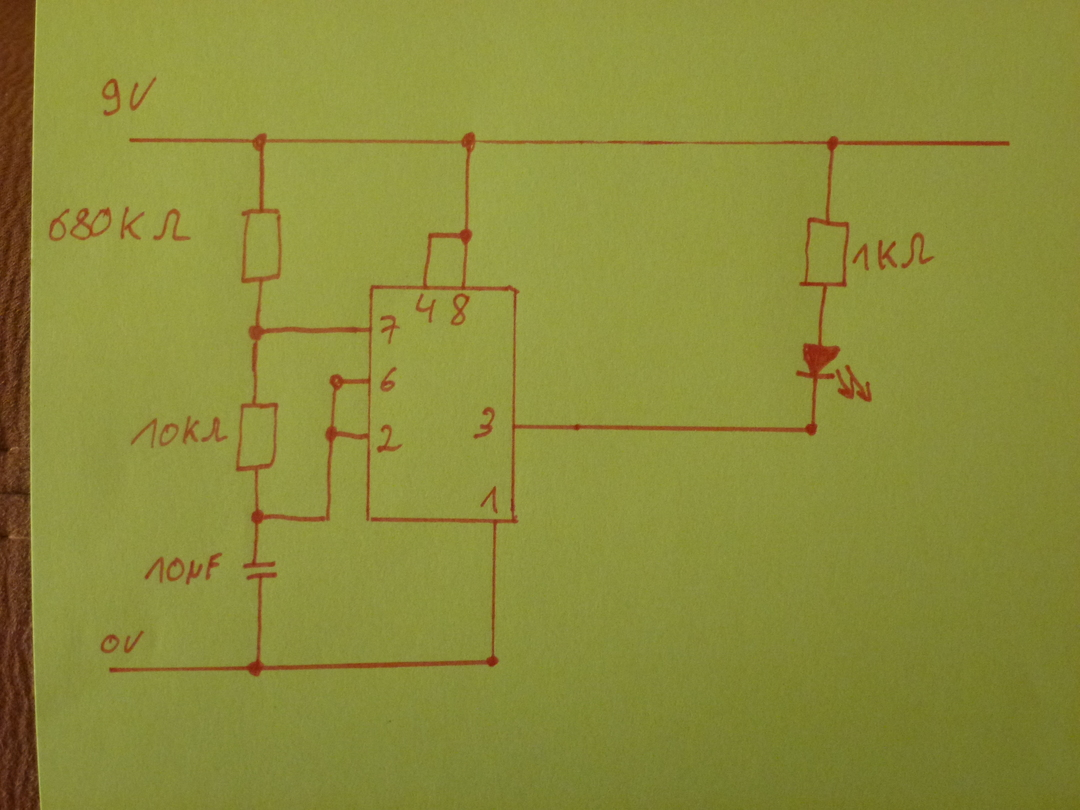capacitor.unpolarized: (241, 556, 278, 586)
diode.light_emitting: (794, 342, 874, 403)
integrated_cricuit.ne555: (365, 283, 520, 526)
junction: (243, 657, 266, 680), (459, 130, 478, 155), (247, 322, 266, 343), (250, 132, 268, 151), (824, 134, 841, 153), (328, 373, 345, 392), (484, 652, 501, 670), (457, 226, 473, 245), (324, 424, 339, 443), (803, 421, 819, 438), (250, 509, 265, 526), (320, 511, 334, 526), (424, 228, 436, 242)
resistor: (798, 215, 848, 289), (240, 206, 284, 285), (234, 400, 279, 474)
terminal: (997, 135, 1016, 152), (124, 133, 138, 148), (104, 661, 116, 678)
text: (46, 205, 192, 243), (852, 230, 936, 272), (130, 415, 230, 449), (143, 552, 223, 586), (99, 75, 157, 117), (97, 628, 145, 655), (374, 422, 404, 454), (471, 405, 497, 441), (413, 291, 437, 324), (450, 292, 472, 327), (377, 313, 401, 345), (479, 485, 501, 515), (378, 365, 399, 393)
